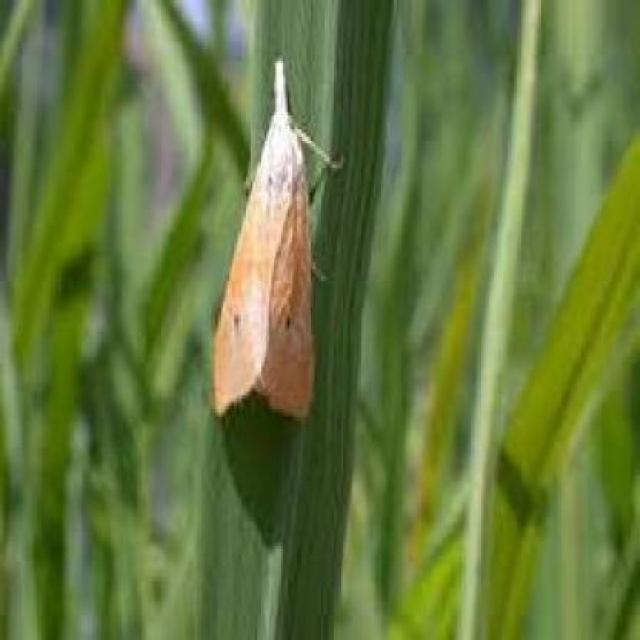stem-borer: (211, 51, 343, 426)
